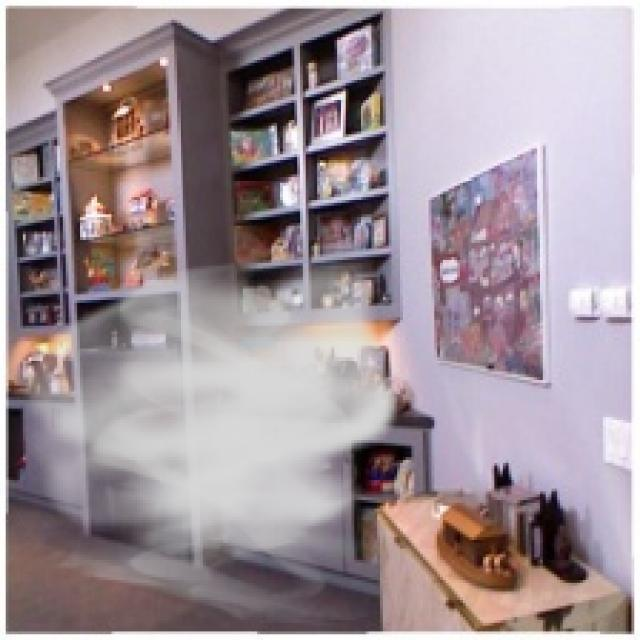Smoke: (8, 248, 403, 628)
